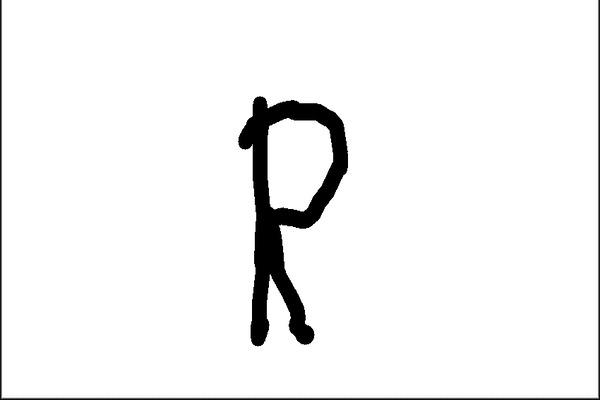R: (233, 90, 348, 352)
